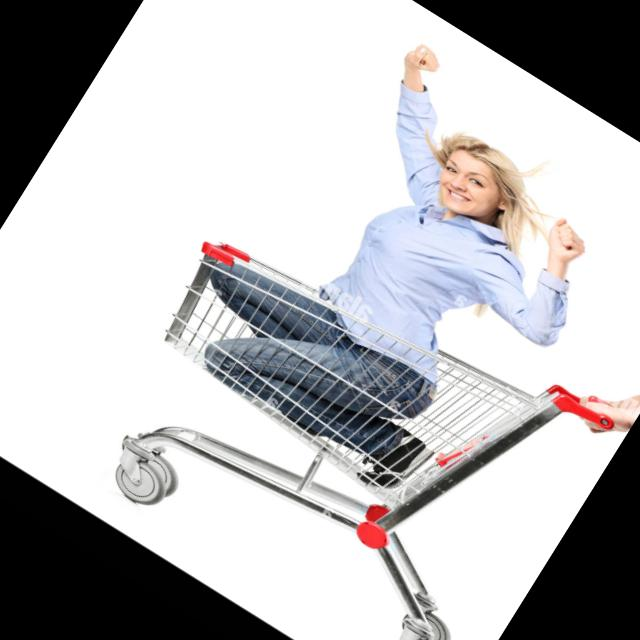Person: (155, 8, 640, 528)
